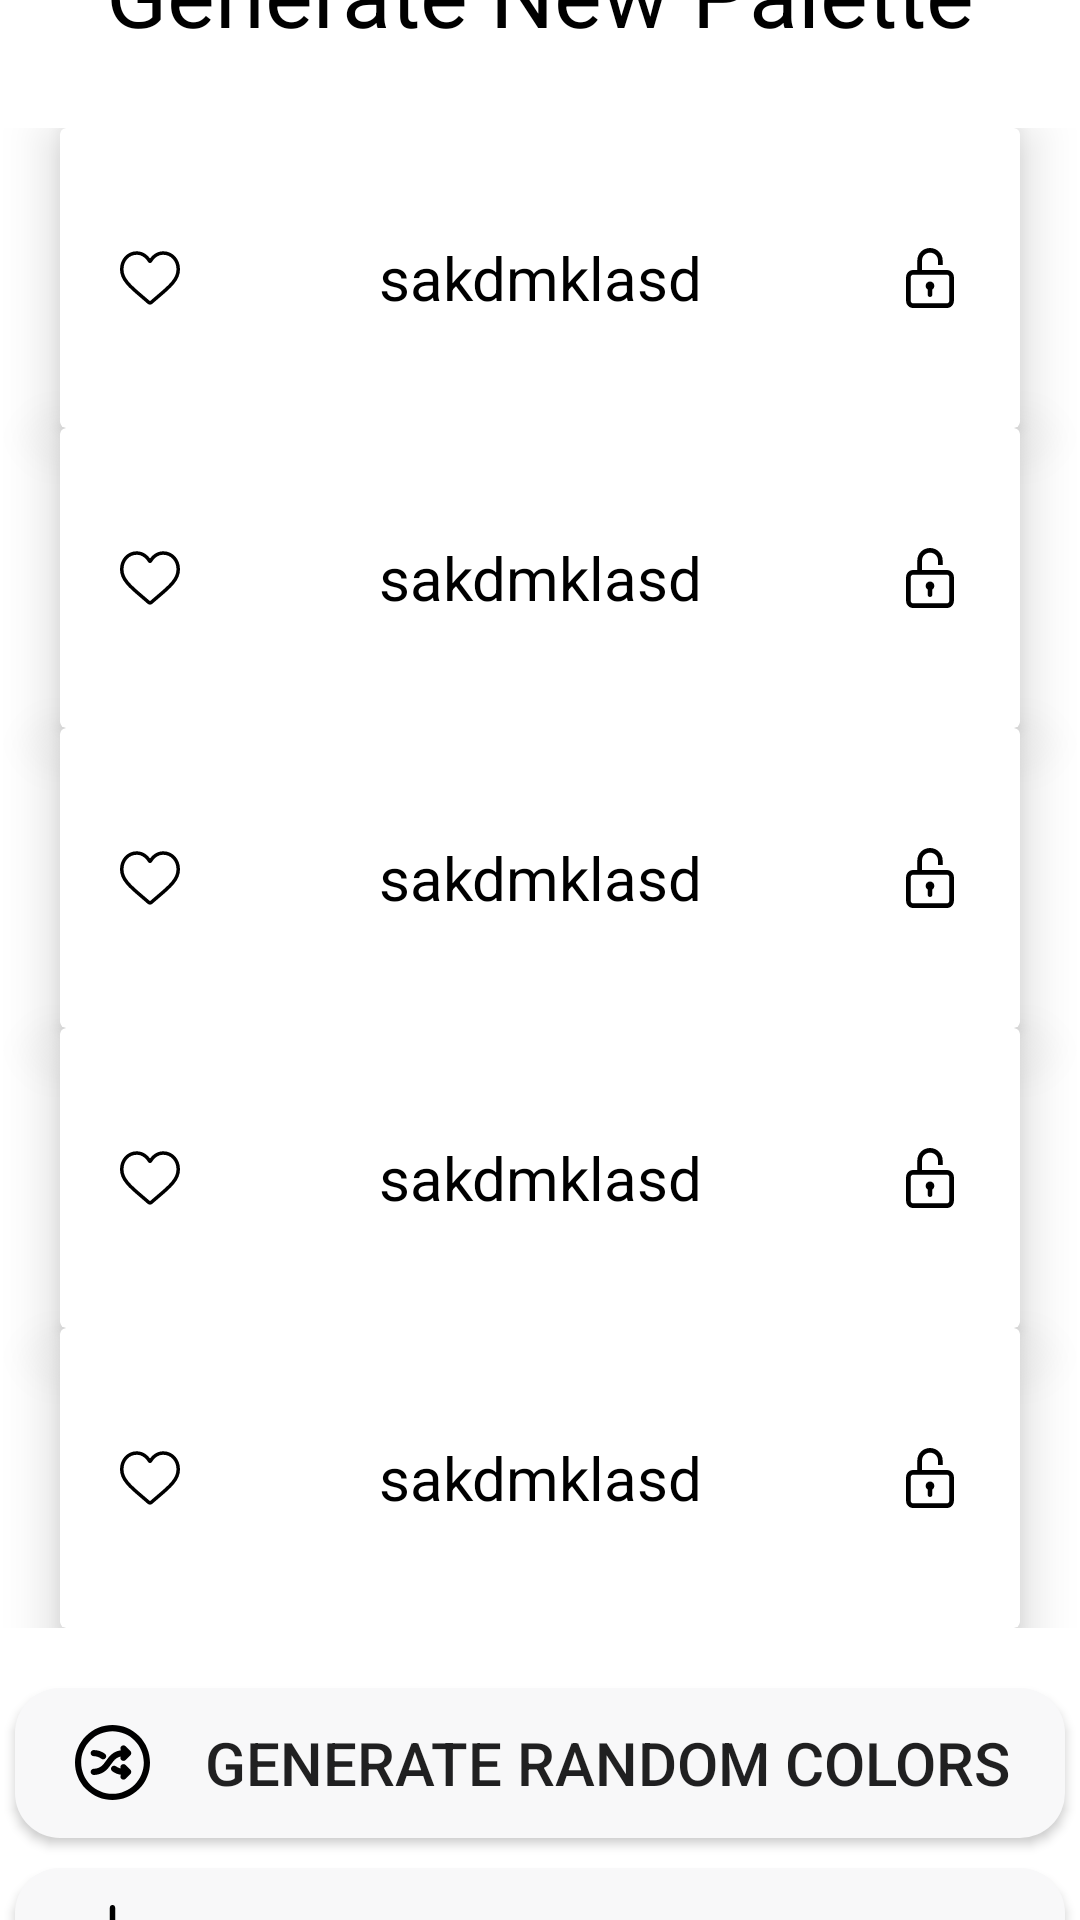

Icon bounding boxes for this 1080 × 1920 phone screenshot, format (x1, y1, x2, y2):
heart: (120, 251, 180, 305), (120, 551, 180, 605), (120, 851, 180, 905), (120, 1151, 180, 1205), (120, 1451, 180, 1505)
unlock: (906, 248, 954, 308), (906, 548, 954, 608), (906, 848, 954, 908), (906, 1148, 954, 1208), (906, 1448, 954, 1508)
